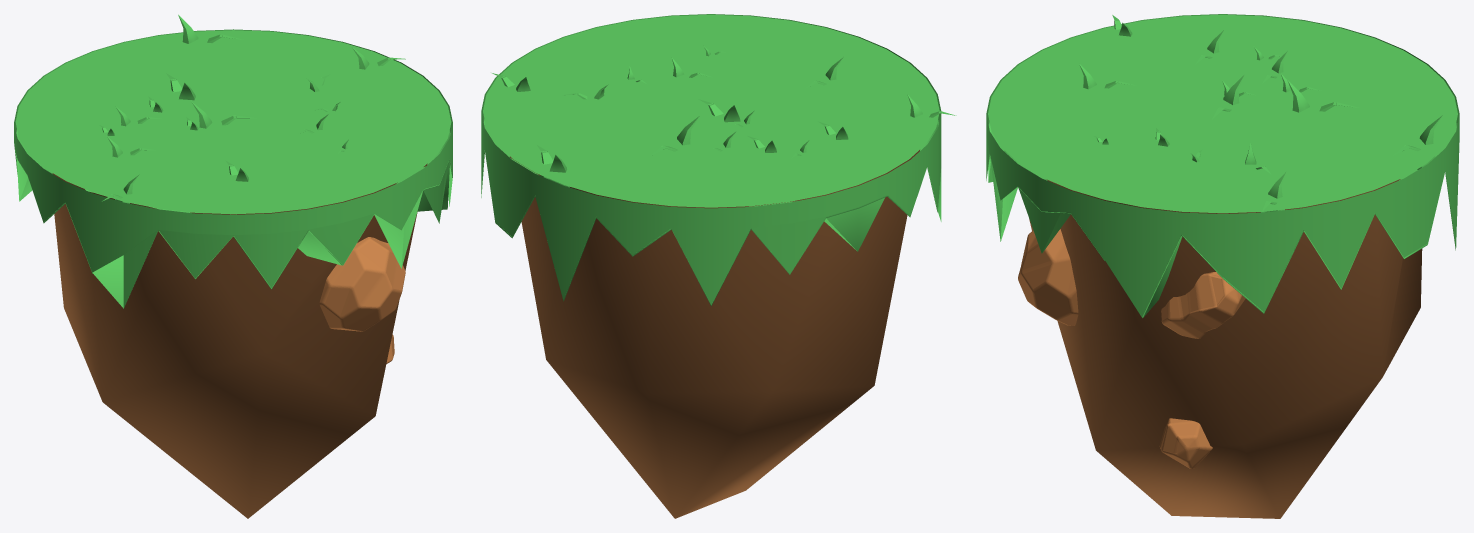
Rendered from platforma.fbx.
3 views of the same model, side by side, from view 1: azimuth 30°, elevation 25°; view 2: azimuth 150°, elevation 25°; view 3: azimuth 270°, elevation 25° (orthographic). The views are drawn at different scales.
Parts seen in each view (by area): view 1: Disc_3, Disc_1, Platonic_4; view 2: Disc_3, Disc_1; view 3: Disc_3, Disc_1, Platonic_4, Capsule, Capsule_1.
Boxes of the visible parts, bbox=[...] form: Disc_3: bbox=[14, 29, 452, 308]; Disc_1: bbox=[52, 163, 427, 518]; Platonic_4: bbox=[319, 237, 405, 331]; Disc_3: bbox=[481, 14, 941, 306]; Disc_1: bbox=[510, 150, 919, 518]; Disc_3: bbox=[986, 14, 1459, 317]; Disc_1: bbox=[1029, 179, 1422, 518]; Platonic_4: bbox=[1018, 229, 1078, 325]; Capsule: bbox=[1161, 272, 1245, 338]; Capsule_1: bbox=[1159, 418, 1212, 468].
Bounding box in the file's own units: 237 × 237 × 236.
